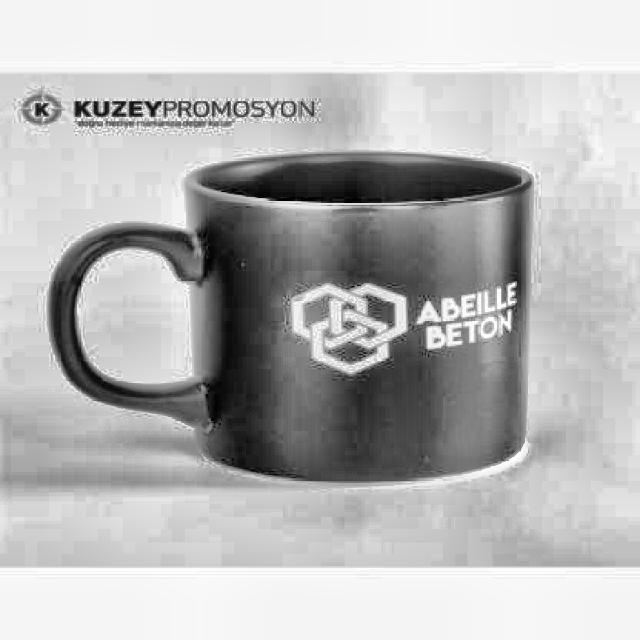Mug: (48, 150, 534, 484)
